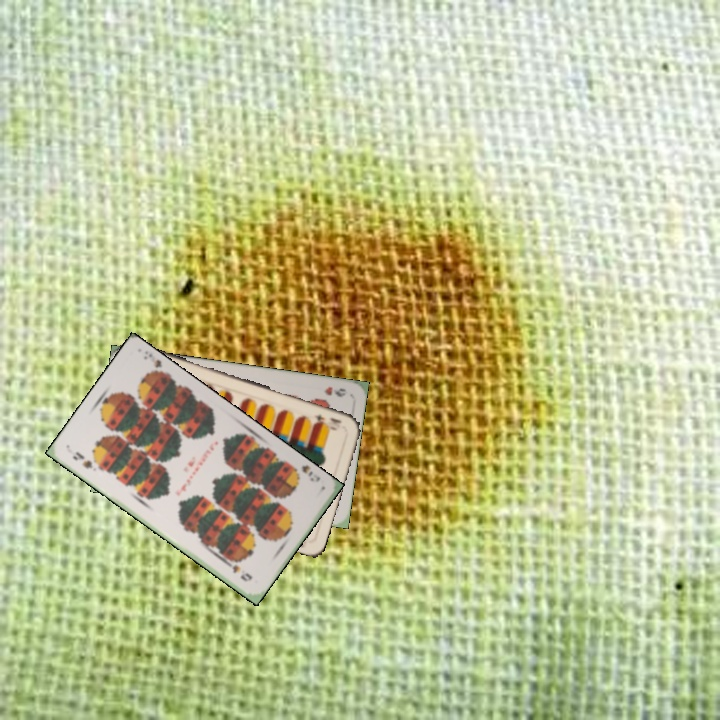E10: (311, 410, 344, 433)
H9: (320, 383, 348, 400)
S9: (288, 461, 323, 485), (68, 447, 95, 471)
